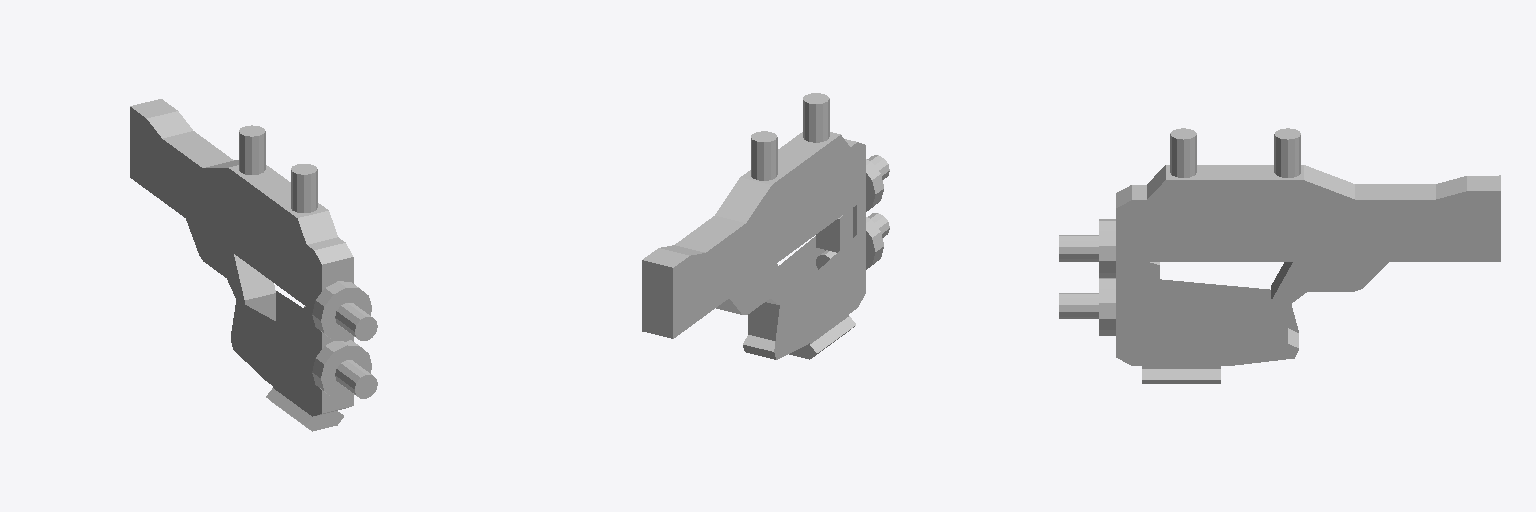
The model's file is Stock31.obj.
3 views of the same model, side by side, from view 1: azimuth 30°, elevation 25°; view 2: azimuth 150°, elevation 25°; view 3: azimuth 270°, elevation 25° (orthographic).
Parts seen in each view (by area): view 1: Cube.041; view 2: Cube.041; view 3: Cube.041.
Part boxes in pixels (bbox=[...]): Cube.041: bbox=[130, 99, 377, 431]; Cube.041: bbox=[642, 93, 889, 359]; Cube.041: bbox=[1059, 128, 1500, 383].
Bounding box in the file's own units: 0.0886 × 0.4013 × 0.6573.